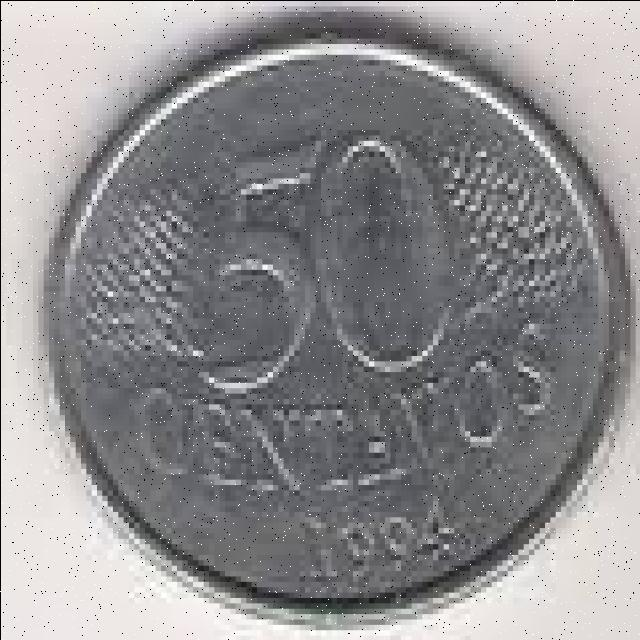50 cent: (44, 32, 626, 624)
